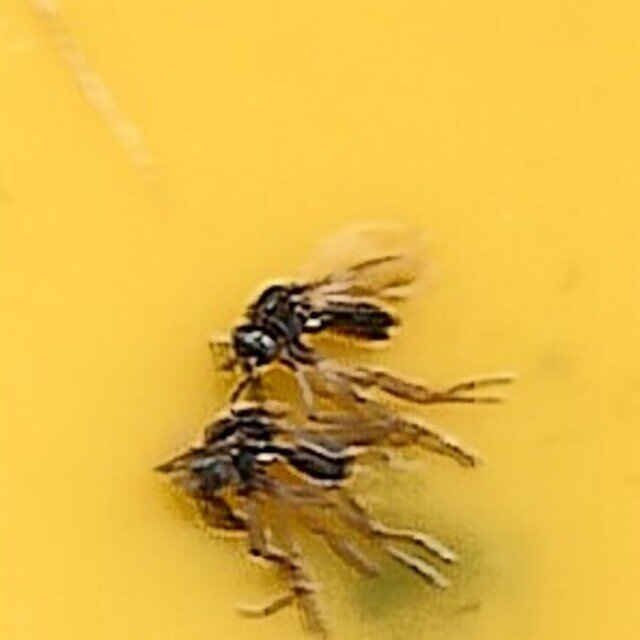Brachycera: (215, 240, 425, 400)
